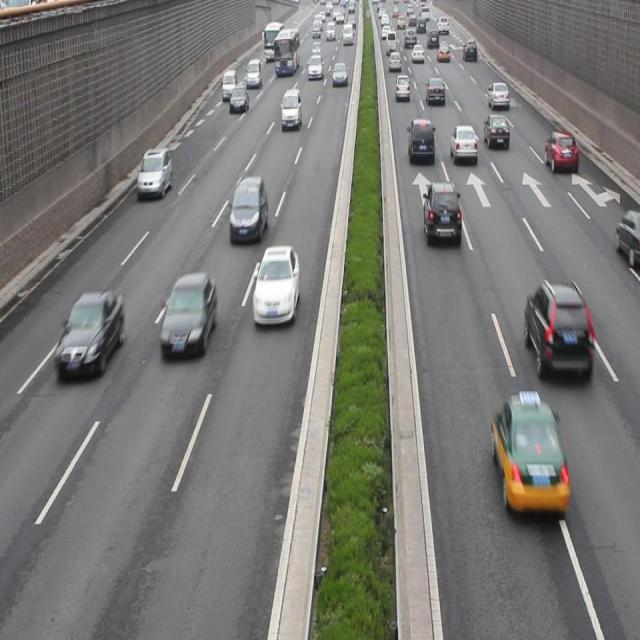car: (492, 394, 570, 519), (520, 278, 592, 383), (54, 292, 125, 374), (160, 274, 218, 360), (253, 246, 300, 328), (228, 177, 268, 245), (421, 182, 460, 246), (137, 150, 172, 197), (542, 129, 577, 171), (449, 124, 477, 162), (482, 113, 508, 149)
truck: (408, 116, 433, 166)
